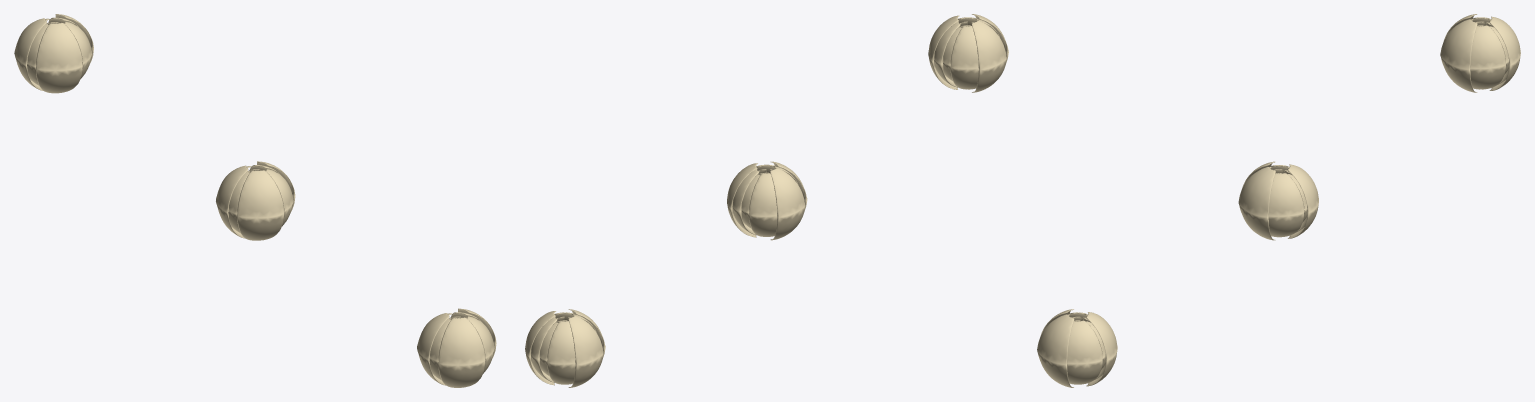
File: Nukleus.glb
The picture shows the model from 3 angles, left to right: view 1: azimuth 30°, elevation 25°; view 2: azimuth 150°, elevation 25°; view 3: azimuth 330°, elevation 25°; orthographic projection.
Visible parts, largest first — view 1: Sphere.102, Sphere.019, Sphere.081, Sphere.078, Sphere.016, Sphere.099; view 2: Sphere.081, Sphere.019, Sphere.102, Sphere.078, Sphere.099, Sphere.016, Sphere.017, Sphere.079, Sphere.100; view 3: Sphere.081, Sphere.102, Sphere.019, Sphere.099, Sphere.016, Sphere.078.
Part boxes in pixels (box(x1,y1,x2,y2)): Sphere.102: box(14, 14, 93, 93); Sphere.019: box(216, 161, 295, 240); Sphere.081: box(417, 308, 496, 387); Sphere.078: box(429, 312, 494, 380); Sphere.016: box(228, 165, 293, 232); Sphere.099: box(27, 17, 91, 85); Sphere.081: box(928, 14, 1008, 92); Sphere.019: box(727, 161, 807, 240); Sphere.102: box(525, 309, 605, 387); Sphere.078: box(934, 17, 999, 89); Sphere.099: box(531, 312, 596, 384); Sphere.016: box(732, 164, 798, 236); Sphere.017: box(741, 169, 772, 228); Sphere.079: box(943, 21, 973, 80); Sphere.100: box(540, 316, 570, 376); Sphere.081: box(1037, 309, 1117, 387); Sphere.102: box(1440, 14, 1520, 92); Sphere.019: box(1238, 161, 1318, 240); Sphere.099: box(1470, 17, 1508, 89); Sphere.016: box(1268, 165, 1307, 237); Sphere.078: box(1067, 312, 1105, 384).
Bounding box in the file's own units: 0.5502 × 0.5255 × 6.04.
